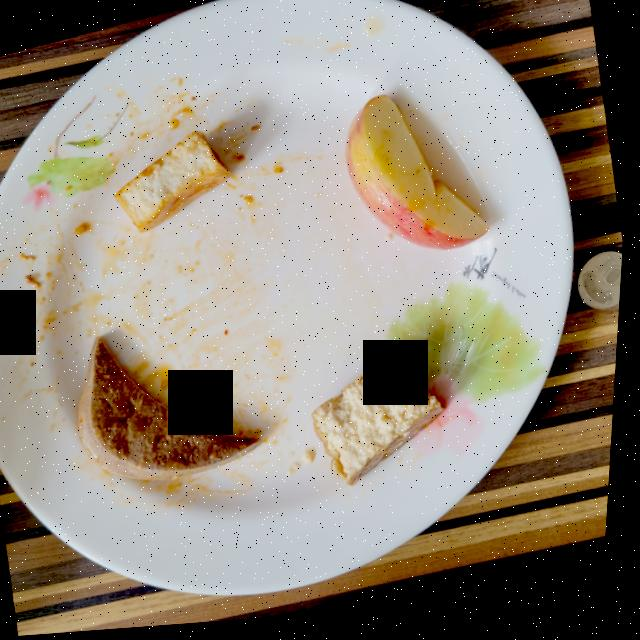apple -sliced-: (347, 100, 492, 256)
coin: (582, 260, 626, 318)
creamy tofu: (117, 133, 233, 234)
egg tofu: (317, 352, 449, 491)
pig liver: (84, 338, 265, 482)
